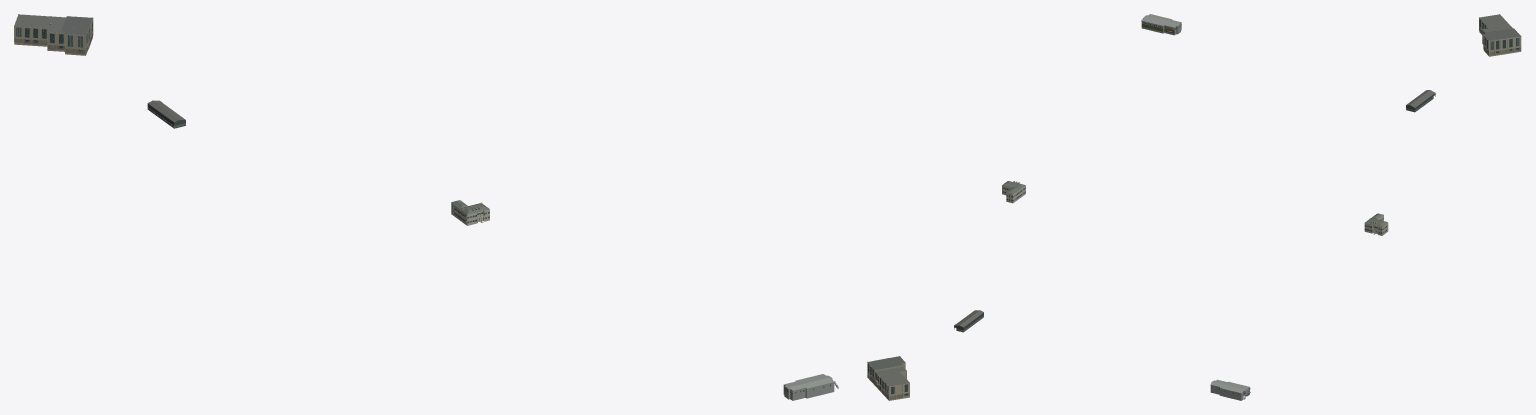
File: site.glb
The picture shows the model from 3 angles, left to right: view 1: azimuth 30°, elevation 25°; view 2: azimuth 150°, elevation 25°; view 3: azimuth 330°, elevation 25°; orthographic projection. The views are drawn at different scales.
Parts seen in each view (by area): view 1: roof-ec27d788, roof-d830368a, roof-8007cb2f; view 2: roof-ec27d788, roof-d830368a, roof-8007cb2f, roof-3961d925; view 3: roof-ec27d788, roof-d830368a, roof-8007cb2f, roof-3961d925.
Part boxes in pixels (x1=…): roof-ec27d788: x1=14, y1=14, x2=93, y2=55; roof-d830368a: x1=783, y1=374, x2=838, y2=400; roof-8007cb2f: x1=451, y1=200, x2=489, y2=225; roof-ec27d788: x1=867, y1=356, x2=909, y2=400; roof-d830368a: x1=1141, y1=14, x2=1181, y2=35; roof-8007cb2f: x1=1002, y1=181, x2=1025, y2=203; roof-3961d925: x1=954, y1=310, x2=983, y2=332; roof-ec27d788: x1=1479, y1=14, x2=1521, y2=56; roof-d830368a: x1=1210, y1=379, x2=1250, y2=400; roof-8007cb2f: x1=1364, y1=213, x2=1388, y2=235; roof-3961d925: x1=1406, y1=90, x2=1435, y2=112.
Size of the model in its own units: 244 by 18.66 by 926.
